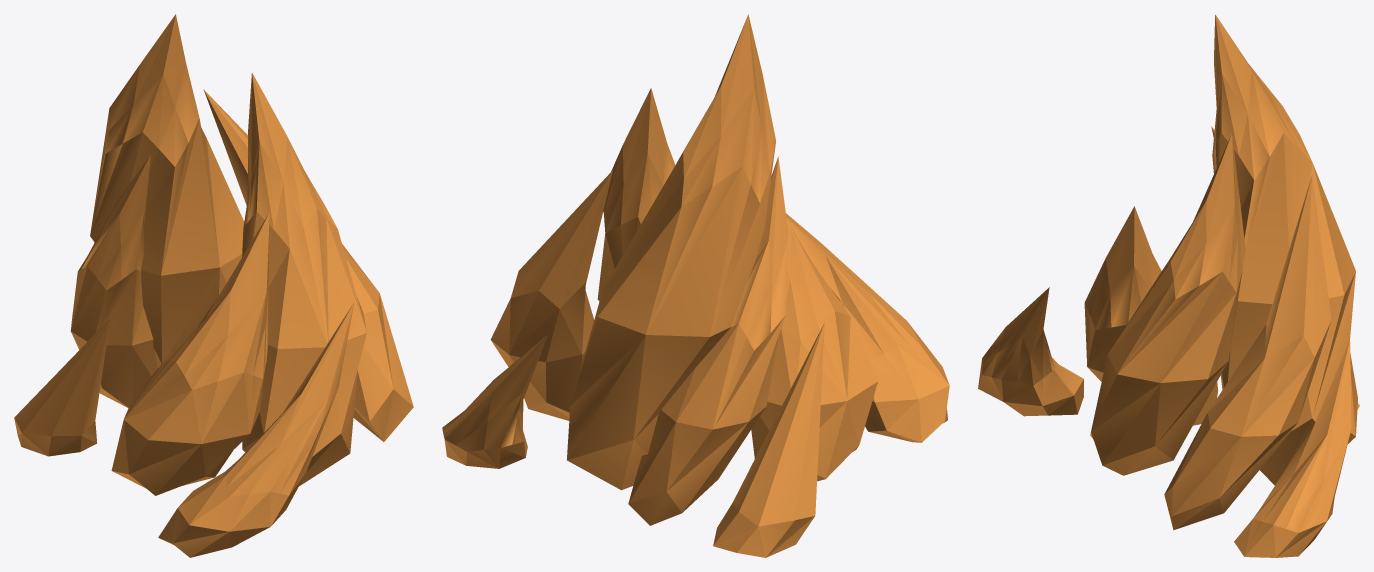
The model's file is SM_RockFormation_E.fbx.
The picture shows the model from 3 angles, left to right: view 1: azimuth 30°, elevation 25°; view 2: azimuth 150°, elevation 25°; view 3: azimuth 270°, elevation 25°; orthographic projection. The views are drawn at different scales.
Visible parts, largest first — view 1: SM_RockFormation_E; view 2: SM_RockFormation_E; view 3: SM_RockFormation_E.
Boxes of the visible parts, x1,y1,x2,y2 form: SM_RockFormation_E: (14,14,413,557); SM_RockFormation_E: (442,14,949,557); SM_RockFormation_E: (978,14,1359,557).
Bounding box in the file's own units: 305 × 365 × 291.
